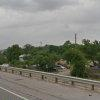Bridge: (3, 57, 97, 97)
